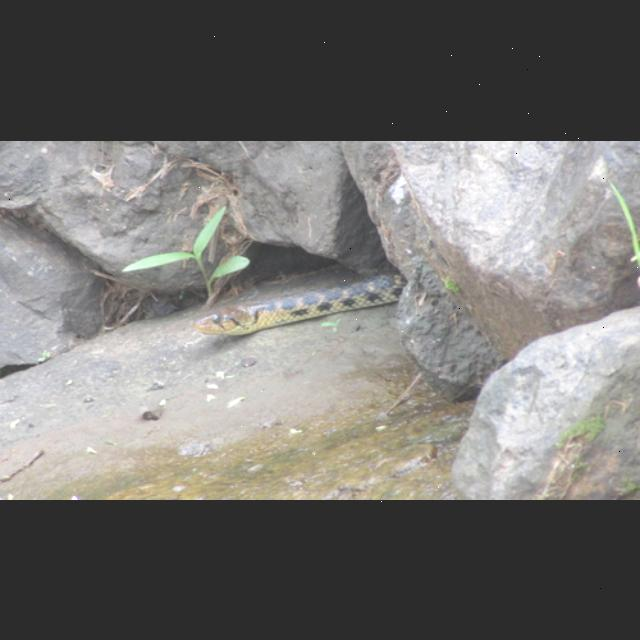snake: (192, 274, 424, 336)
